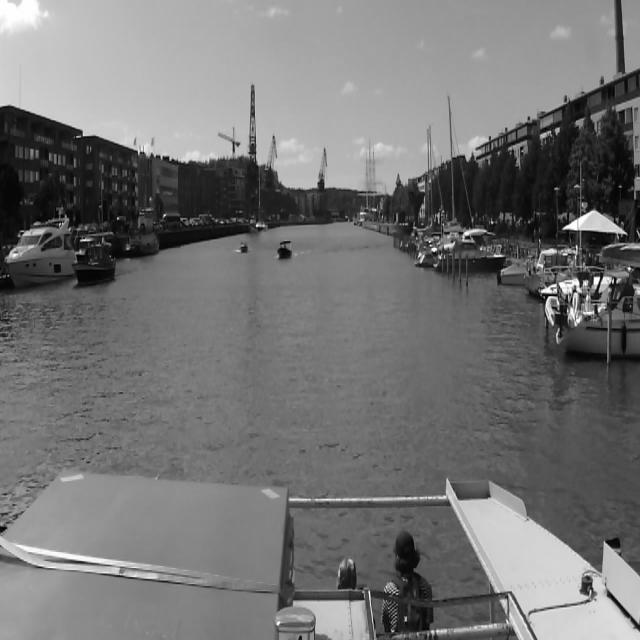ship: (557, 241, 639, 353), (3, 207, 73, 293), (433, 235, 507, 273), (125, 196, 161, 262), (71, 241, 117, 287), (256, 164, 268, 231), (277, 238, 293, 260), (248, 215, 256, 235), (239, 242, 248, 253)
